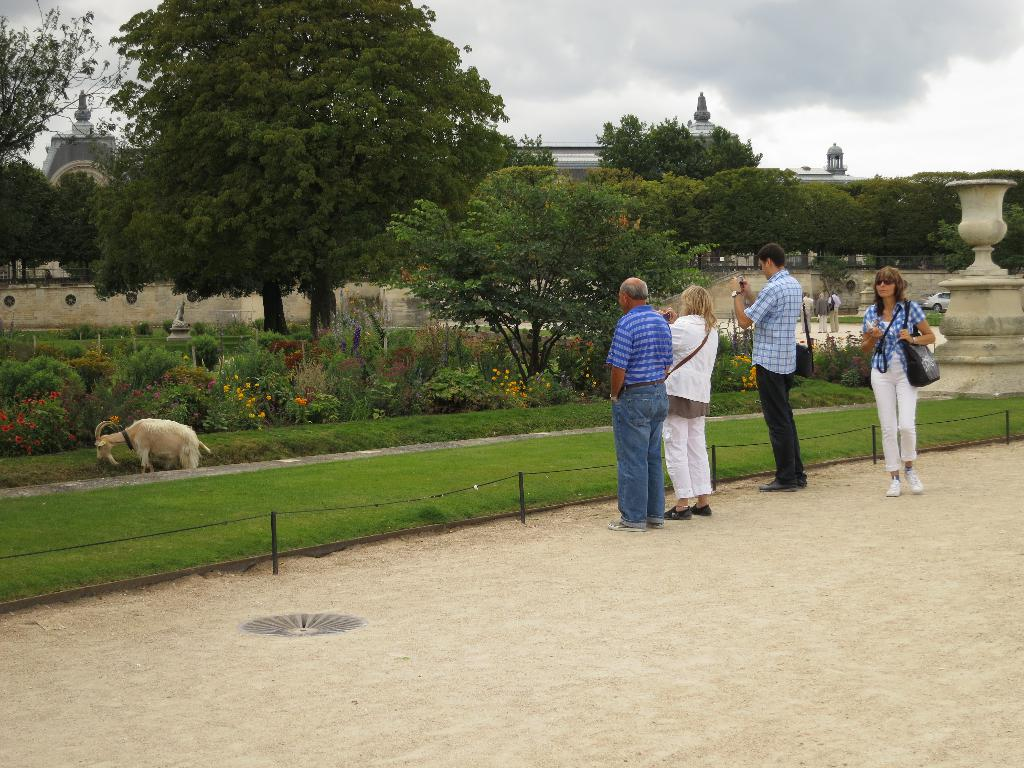Tree: (0, 0, 1024, 382)
